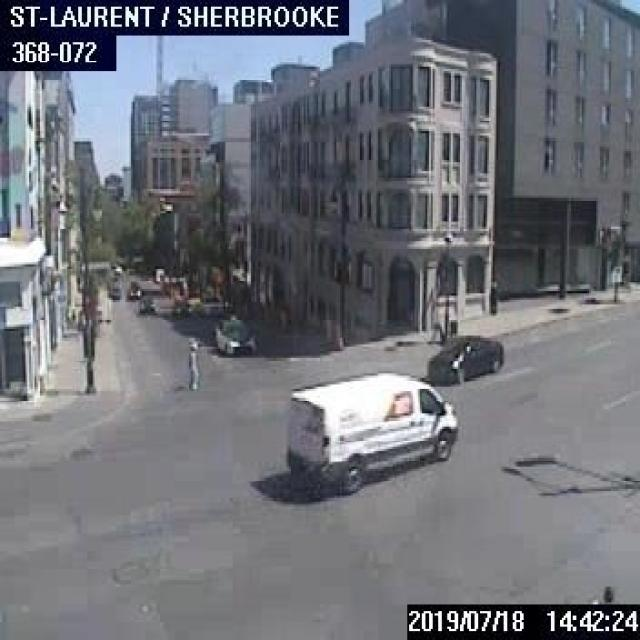construction: (322, 318, 332, 342), (278, 307, 284, 331)
pedestrian: (186, 335, 200, 389)
vehicle: (283, 369, 457, 492), (424, 335, 502, 381), (215, 313, 254, 354), (136, 295, 155, 314), (172, 298, 190, 315), (127, 279, 141, 298), (105, 282, 120, 298)
